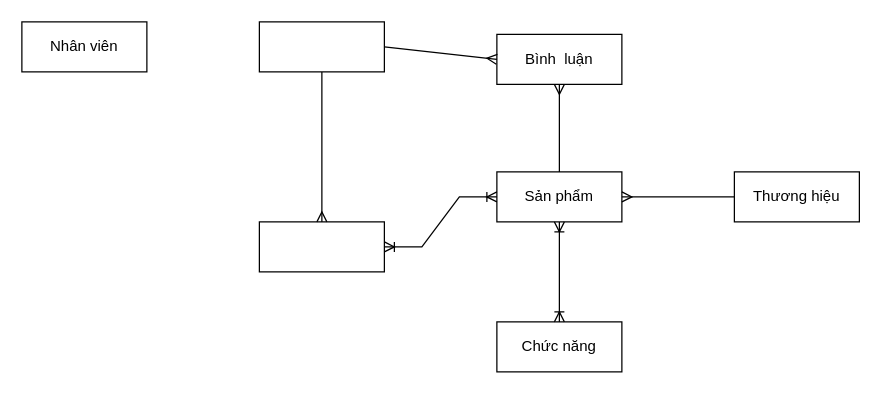
This 881x394 diagram has some shape labels left out. Each missing label, with the centre of its shape:
Hóa đơn: the point at 321,246
Khách hàng: the point at 321,46
